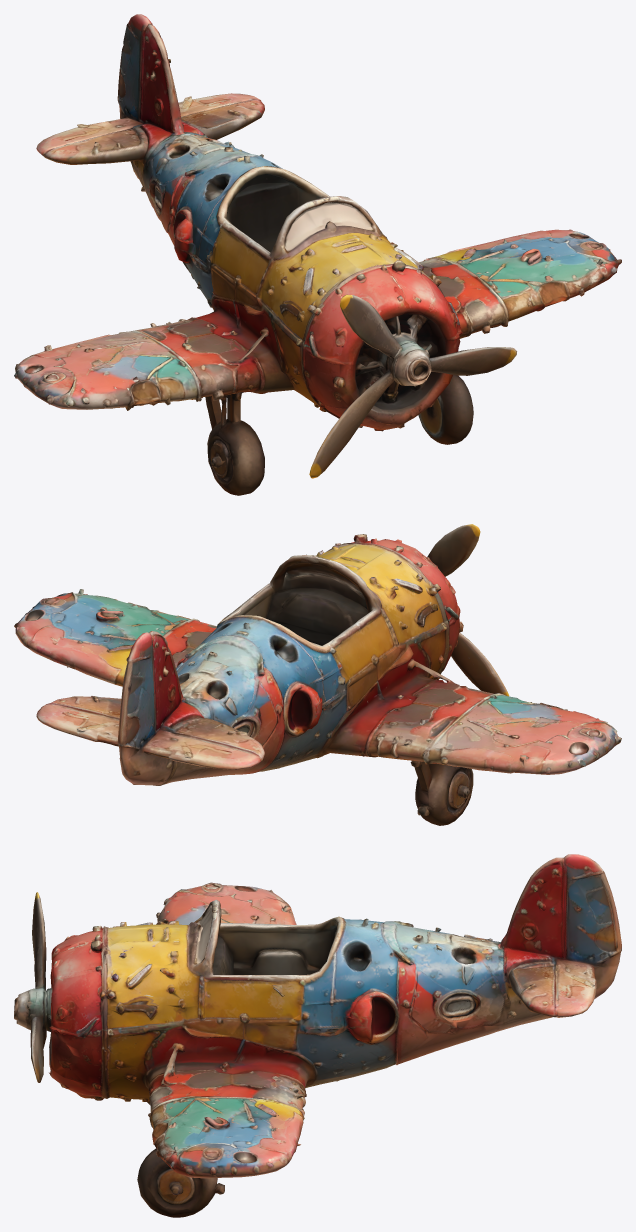
File: vintage_plane_25k.glb
The picture shows the model from 3 angles, top to bottom: view 1: azimuth 30°, elevation 25°; view 2: azimuth 150°, elevation 25°; view 3: azimuth 270°, elevation 25°; orthographic projection.
Bounding box in the file's own units: 0.9967 × 0.507 × 0.9021.
1 material, 1 textured.
